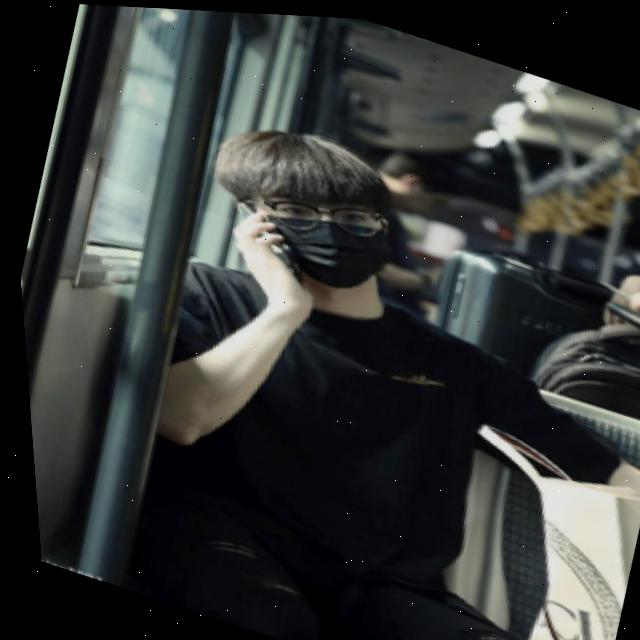Mask: (225, 184, 400, 299)
